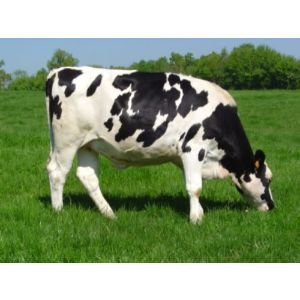cow: (43, 64, 279, 226)
